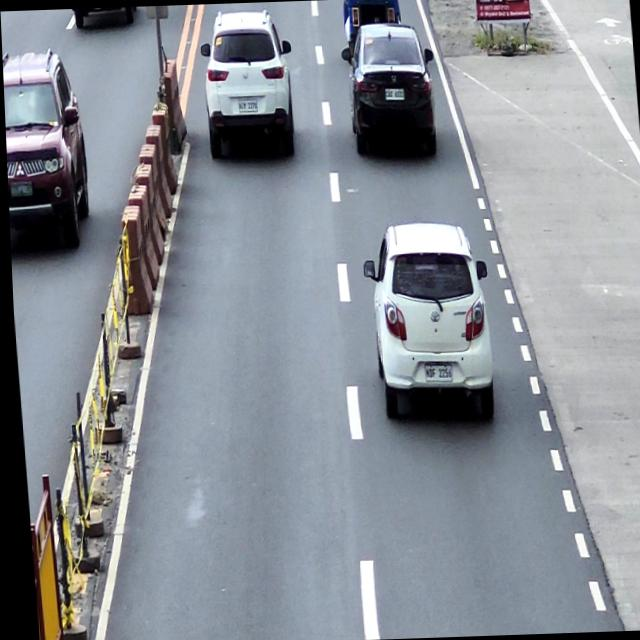Car: (357, 218, 495, 422), (2, 45, 91, 249), (196, 7, 298, 160), (338, 19, 440, 158)
License-Plate: (419, 361, 450, 384), (6, 179, 32, 198), (382, 85, 405, 102), (236, 98, 257, 112)
